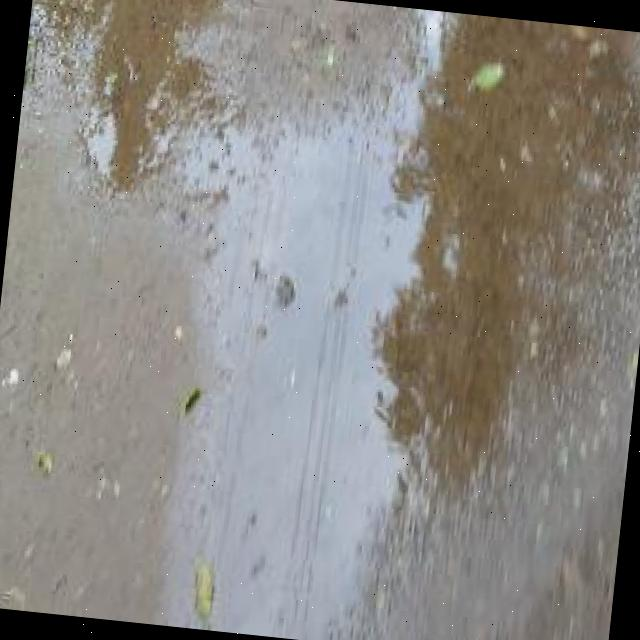stagnation: (52, 0, 640, 640)
